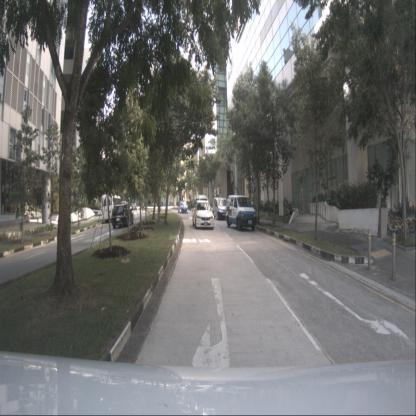vehicle-bus-rigid: (102, 194, 122, 223)
vehicle-car: (226, 195, 256, 231), (192, 200, 214, 230), (112, 204, 134, 230), (212, 197, 230, 220), (195, 194, 209, 220), (178, 200, 188, 214), (121, 200, 128, 212), (132, 203, 136, 210)
